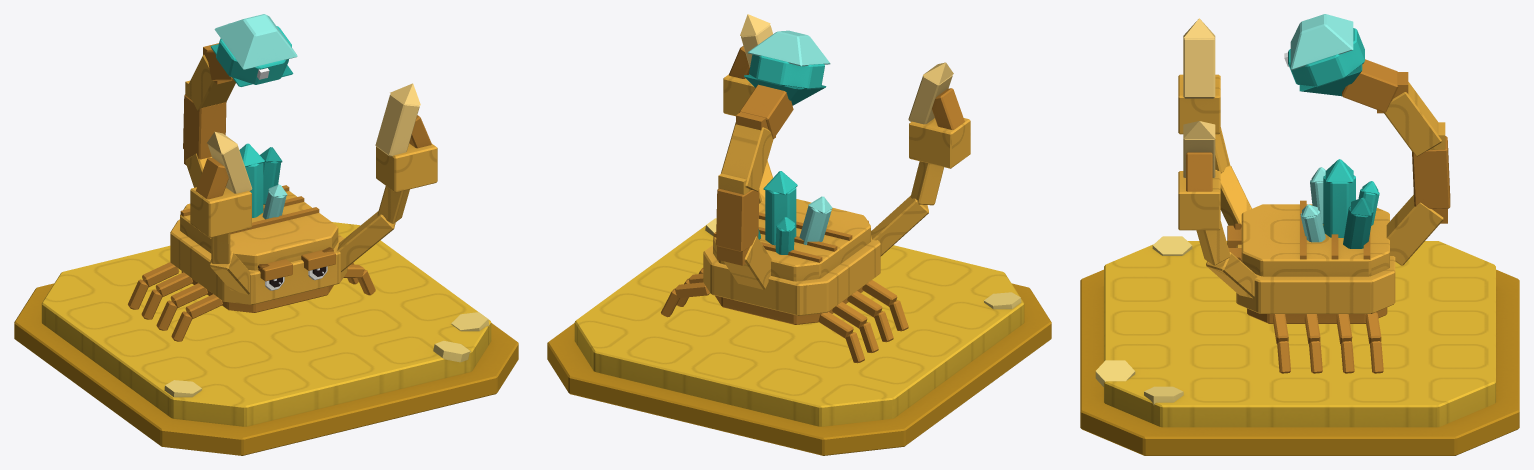
Rendered from CrystalScorpion.fbx.
The picture shows the model from 3 angles, left to right: view 1: azimuth 30°, elevation 25°; view 2: azimuth 150°, elevation 25°; view 3: azimuth 270°, elevation 25°; orthographic projection. The views are drawn at different scales.
Parts seen in each view (by area): view 1: Art_CrystalScorpion_Stand, Art_CrystalScorpion_Body, Art_CrystalScorpion_ClawR, Art_CrystalScorpion_ClawL, Art_CrystalScorpion_Gem, Art_CrystalScorpion_Tail, Art_CrystalScorpion_LegsL, Art_CrystalScorpion_LegsR; view 2: Art_CrystalScorpion_Stand, Art_CrystalScorpion_Body, Art_CrystalScorpion_Tail, Art_CrystalScorpion_ClawL, Art_CrystalScorpion_Gem, Art_CrystalScorpion_LegsL, Art_CrystalScorpion_ClawR, Art_CrystalScorpion_LegsR; view 3: Art_CrystalScorpion_Stand, Art_CrystalScorpion_Body, Art_CrystalScorpion_Tail, Art_CrystalScorpion_ClawR, Art_CrystalScorpion_ClawL, Art_CrystalScorpion_Gem, Art_CrystalScorpion_LegsR.
Boxes of the visible parts, bbox=[...] form: Art_CrystalScorpion_Stand: bbox=[14, 222, 518, 455]; Art_CrystalScorpion_Body: bbox=[170, 143, 347, 312]; Art_CrystalScorpion_ClawR: bbox=[337, 83, 437, 271]; Art_CrystalScorpion_ClawL: bbox=[190, 132, 252, 294]; Art_CrystalScorpion_Gem: bbox=[210, 14, 297, 86]; Art_CrystalScorpion_Tail: bbox=[183, 43, 235, 187]; Art_CrystalScorpion_LegsL: bbox=[128, 262, 222, 341]; Art_CrystalScorpion_LegsR: bbox=[343, 262, 375, 295]; Art_CrystalScorpion_Stand: bbox=[547, 218, 1051, 455]; Art_CrystalScorpion_Body: bbox=[703, 171, 880, 324]; Art_CrystalScorpion_Tail: bbox=[716, 84, 793, 289]; Art_CrystalScorpion_ClawL: bbox=[871, 62, 970, 256]; Art_CrystalScorpion_Gem: bbox=[744, 30, 830, 105]; Art_CrystalScorpion_LegsL: bbox=[818, 280, 908, 363]; Art_CrystalScorpion_ClawR: bbox=[723, 14, 772, 203]; Art_CrystalScorpion_LegsR: bbox=[661, 268, 709, 317]; Art_CrystalScorpion_Stand: bbox=[1080, 236, 1519, 455]; Art_CrystalScorpion_Body: bbox=[1227, 159, 1395, 323]; Art_CrystalScorpion_Tail: bbox=[1342, 59, 1450, 265]; Art_CrystalScorpion_ClawR: bbox=[1178, 121, 1257, 298]; Art_CrystalScorpion_ClawL: bbox=[1178, 18, 1251, 225]; Art_CrystalScorpion_Gem: bbox=[1284, 14, 1364, 96]; Art_CrystalScorpion_LegsR: bbox=[1273, 312, 1383, 373].
Size of the model in its own units: 3.32 by 2.87 by 3.32.
